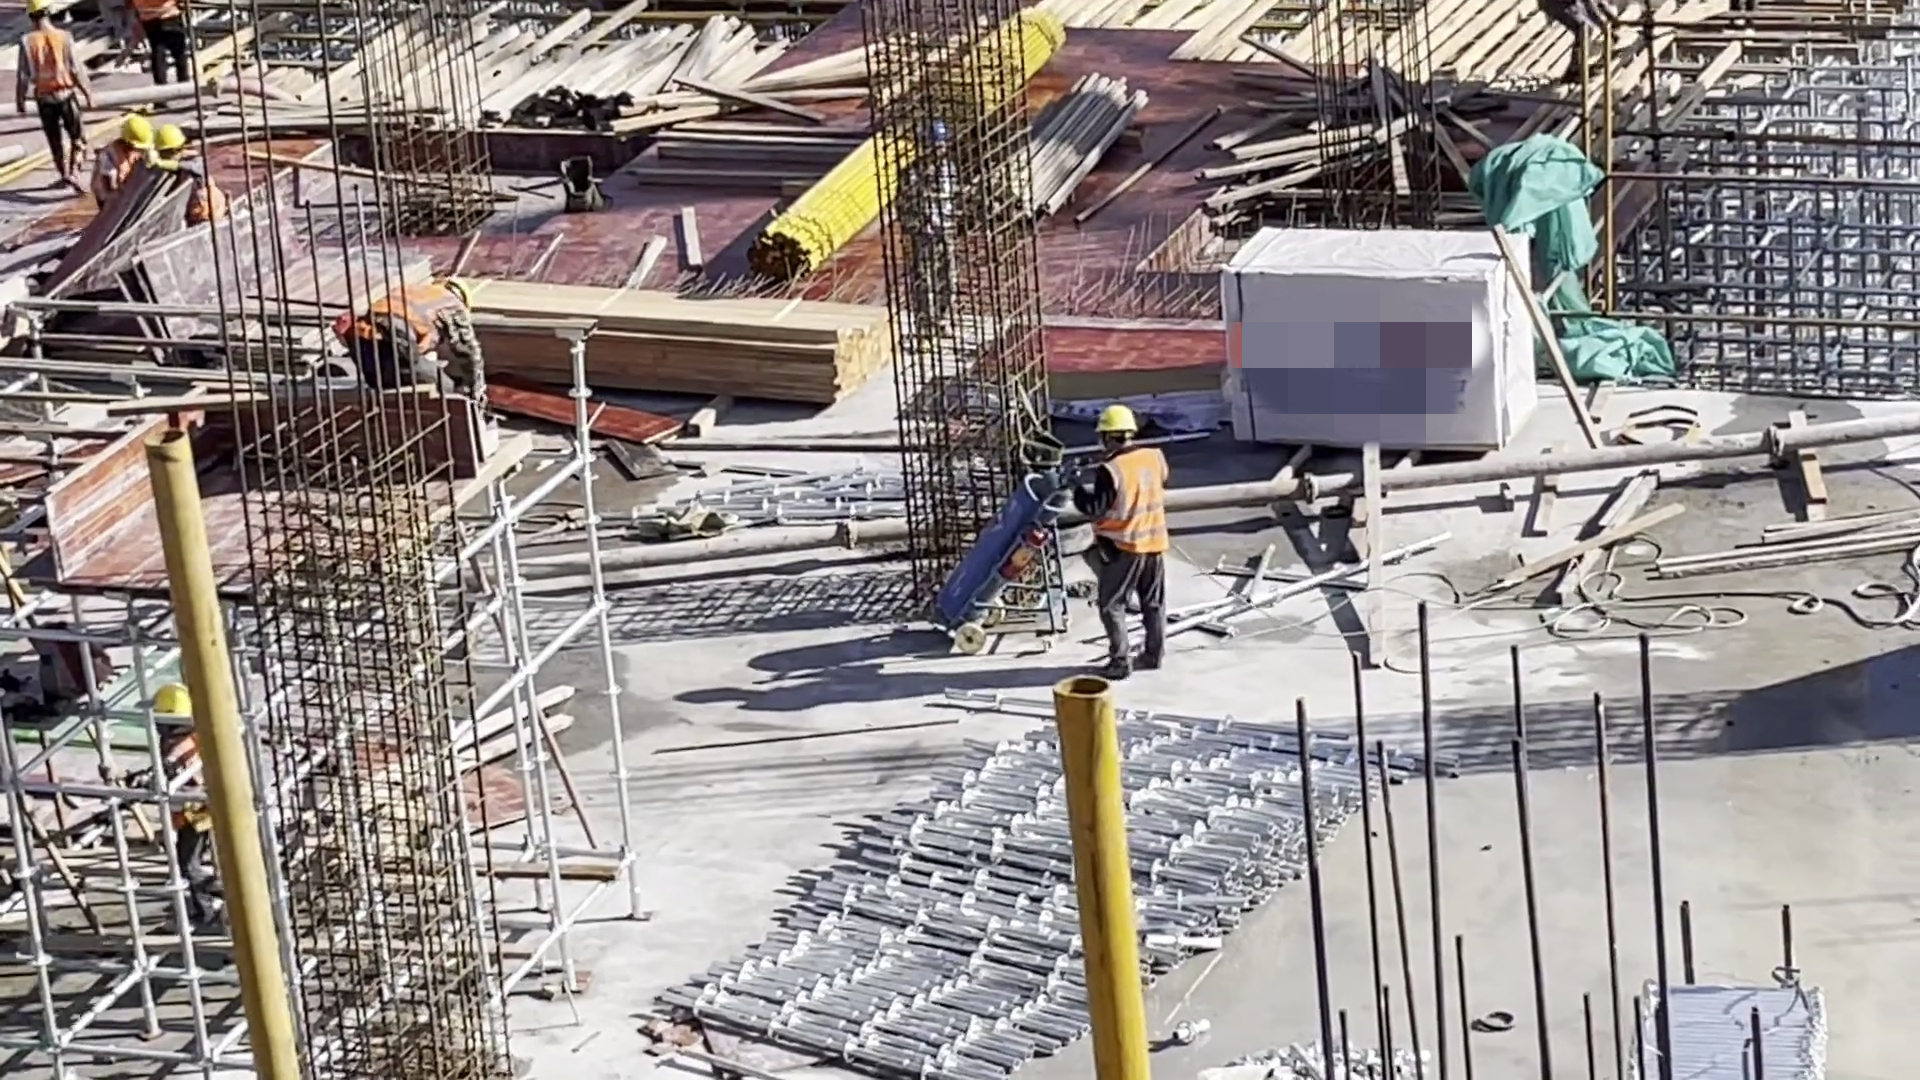helmet: (148, 684, 199, 728), (1094, 408, 1141, 438), (120, 114, 150, 146), (158, 127, 187, 150), (29, 3, 51, 16)
person: (148, 691, 245, 942), (1086, 405, 1169, 683), (348, 279, 489, 413), (18, 6, 91, 198), (163, 127, 226, 234), (130, 1, 196, 80), (95, 119, 147, 215)
scaffold: (659, 697, 1417, 1076), (1628, 971, 1828, 1080)
vest: (1103, 449, 1173, 560), (362, 280, 458, 351), (165, 736, 217, 825), (24, 32, 81, 108), (170, 154, 221, 219), (100, 146, 144, 190)
wood: (458, 282, 895, 405)
